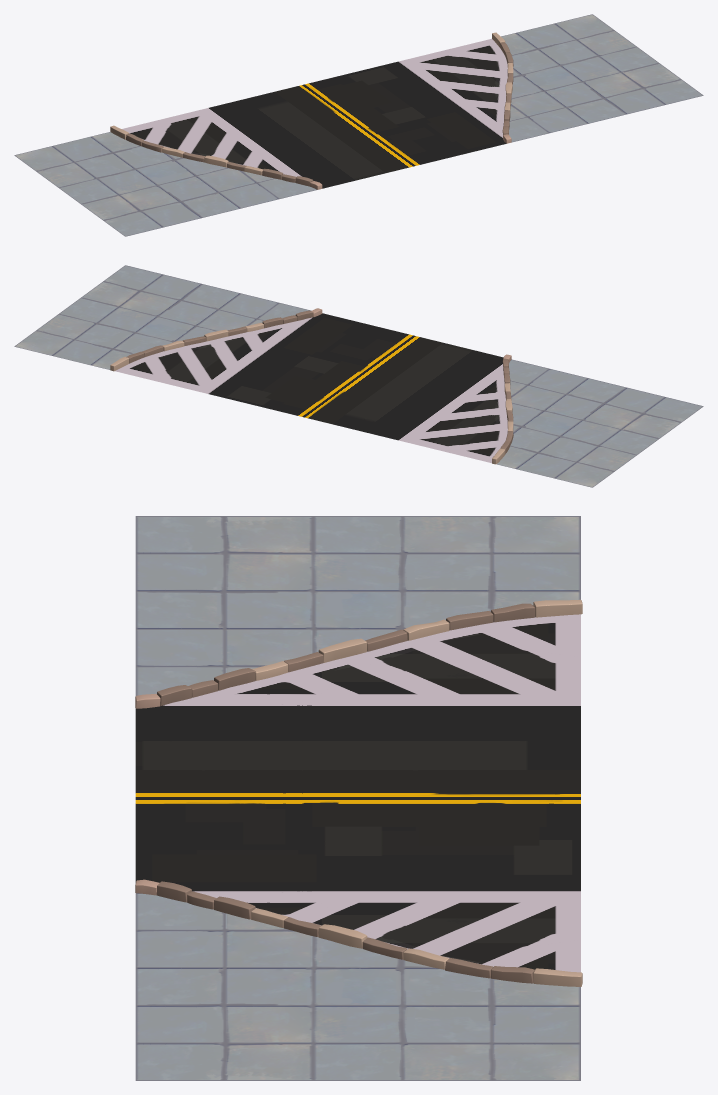
Rendered from CityRoad_8LineExtension.fbx.
3 renders of one model, top to bottom at view 1: azimuth 30°, elevation 25°; view 2: azimuth 150°, elevation 25°; view 3: azimuth 270°, elevation 25°, orthographic. The views are drawn at different scales.
Visible parts, largest first — view 1: CityRoad_8LineExtension_mesh; view 2: CityRoad_8LineExtension_mesh; view 3: CityRoad_8LineExtension_mesh.
Part boxes in pixels (x1,y1,x2,y2): CityRoad_8LineExtension_mesh: [14, 14, 703, 236]; CityRoad_8LineExtension_mesh: [14, 265, 703, 487]; CityRoad_8LineExtension_mesh: [135, 516, 582, 1080].
Bounding box in the file's own units: 3000 × 28.55 × 1004.
